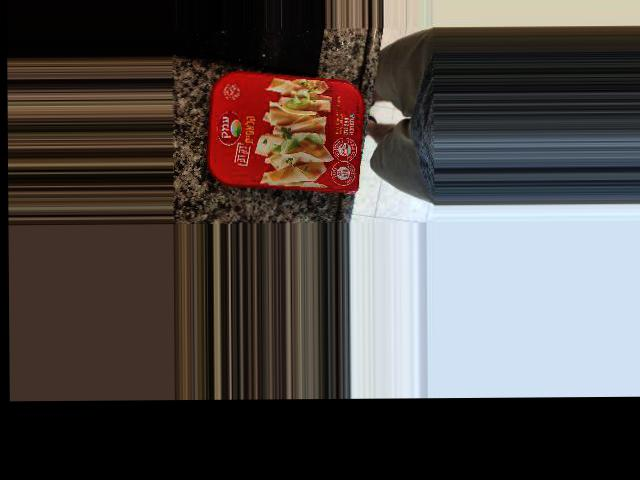cheese: (238, 53, 396, 179)
